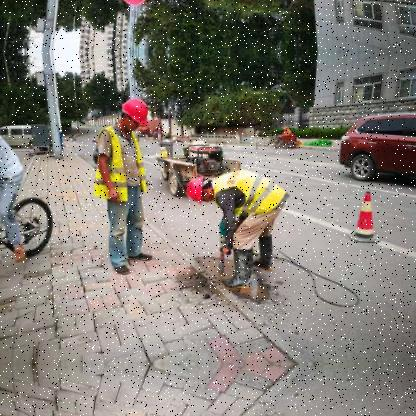Helmet: (184, 163, 219, 204), (118, 98, 152, 135)
